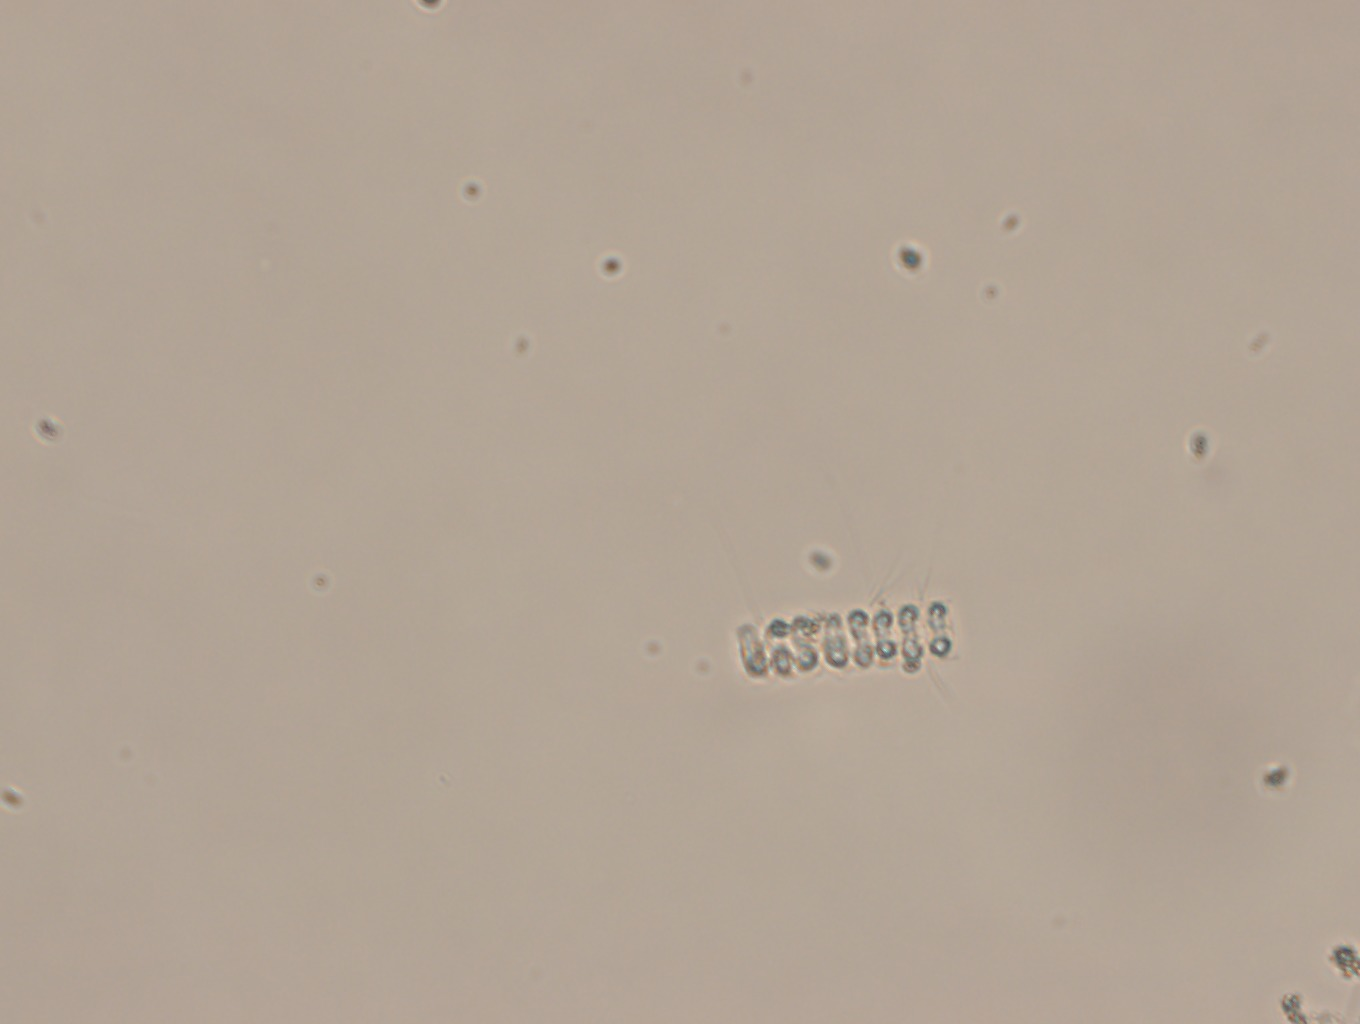chaetoceros: (719, 589, 974, 695)
